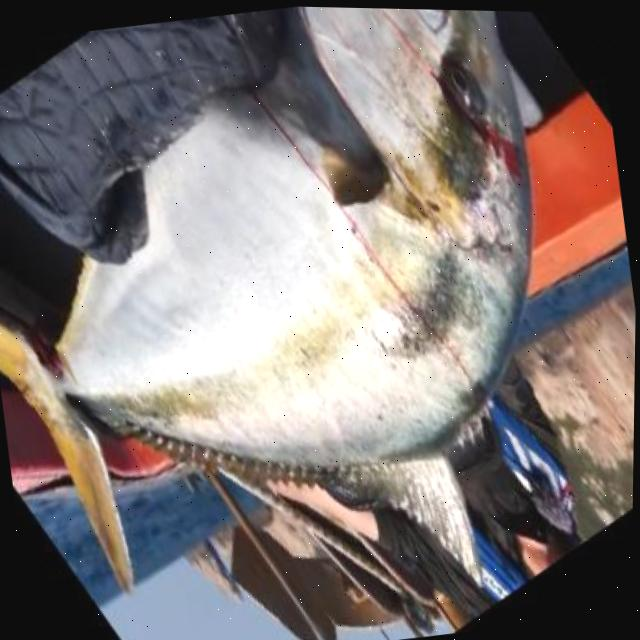Kingfish: (0, 0, 590, 621)
